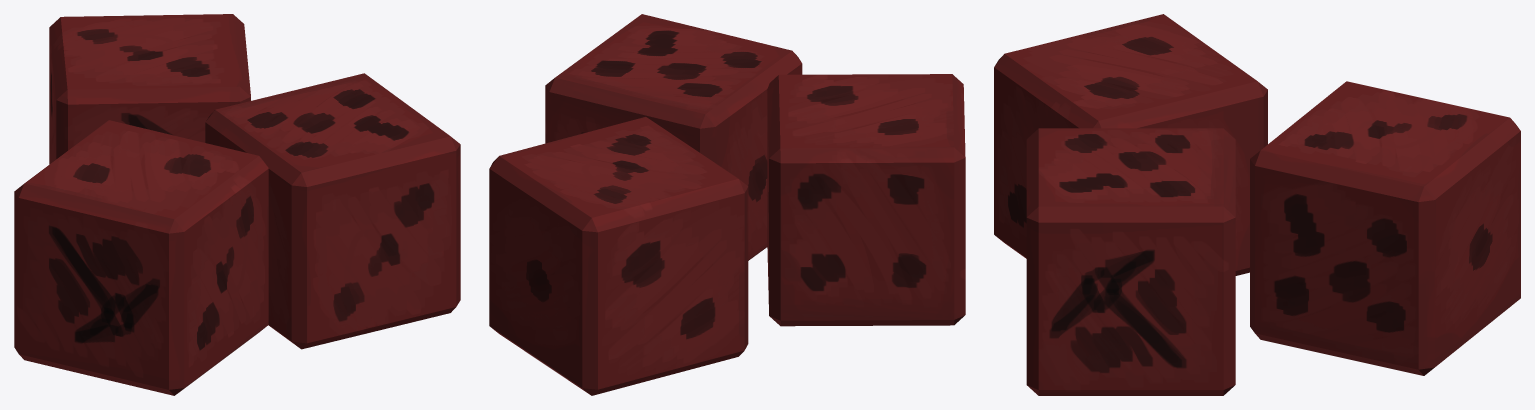
File: dices_on_table.fbx
3 renders of one model, left to right at view 1: azimuth 30°, elevation 25°; view 2: azimuth 150°, elevation 25°; view 3: azimuth 270°, elevation 25°, orthographic. The views are drawn at different scales.
Visible parts, largest first — view 1: Cube.001, Cube, Cube.002; view 2: Cube.002, Cube.001, Cube; view 3: Cube.002, Cube, Cube.001.
Part boxes in pixels (x1,y1,x2,y2): Cube.001: (14,120,268,395); Cube: (205,73,460,349); Cube.002: (49,14,250,164); Cube.002: (489,117,748,395); Cube.001: (767,74,965,326); Cube: (545,14,802,260); Cube.002: (1250,81,1520,375); Cube: (1026,128,1235,395); Cube.001: (994,14,1267,275).
Bounding box in the file's own units: 458 × 200 × 504.
